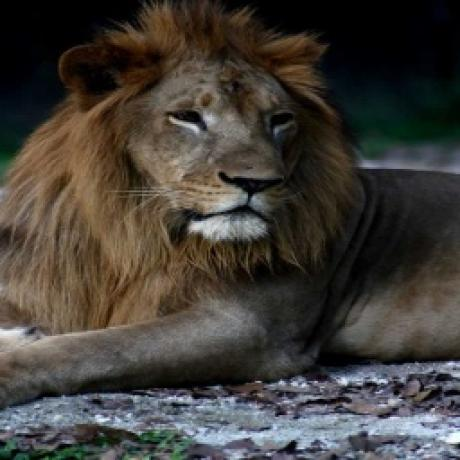Lion: (0, 0, 460, 395)
